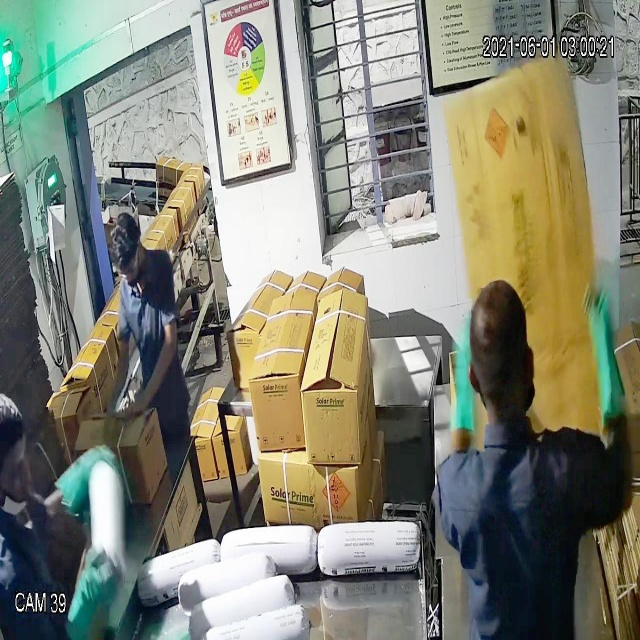Gafas: (111, 253, 144, 287)
